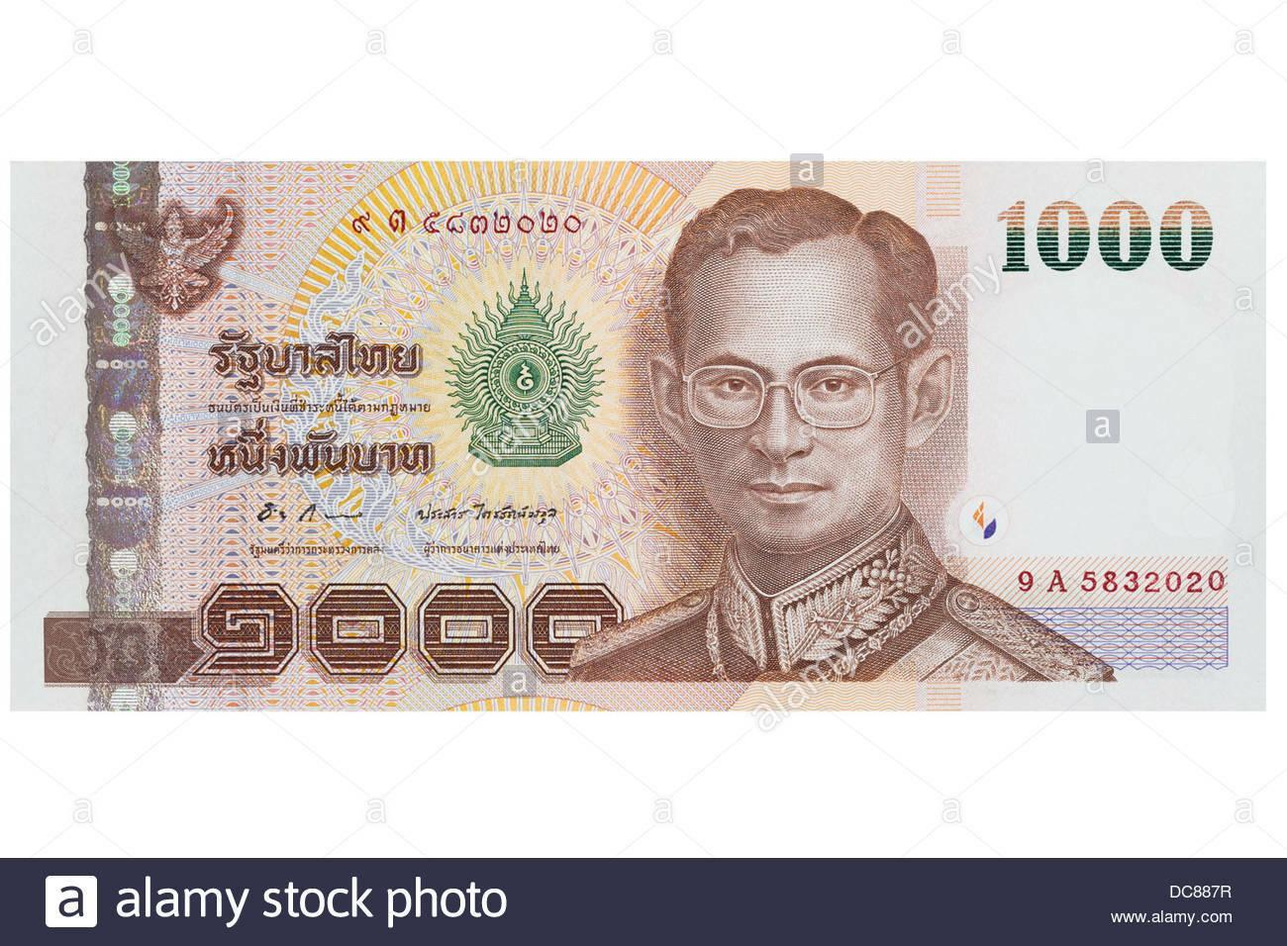1000BahtTai: (16, 156, 1263, 710)
